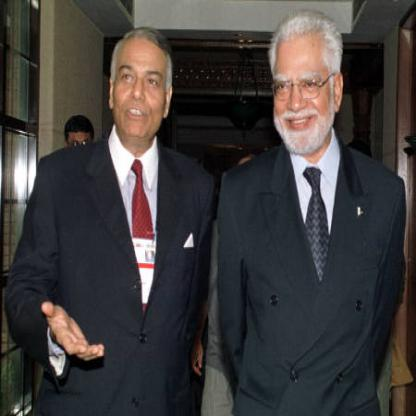face: (269, 15, 337, 157), (113, 30, 171, 144)
